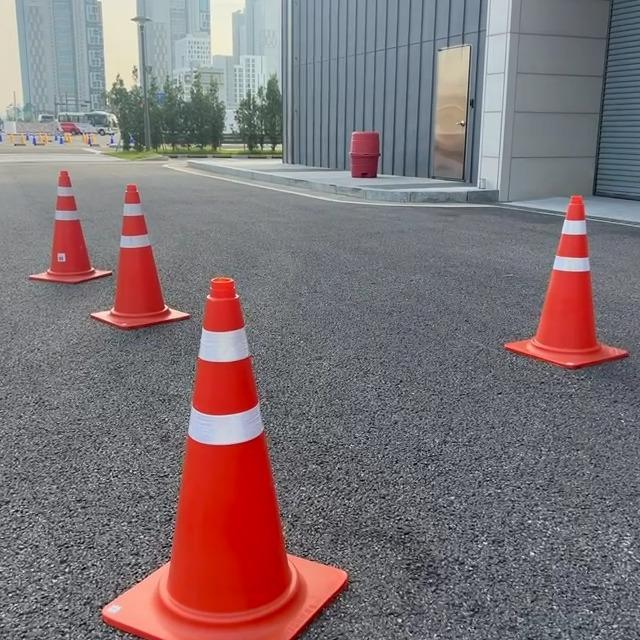fallen_object: (142, 266, 310, 627), (479, 175, 608, 377), (40, 173, 192, 336), (17, 132, 102, 304)
